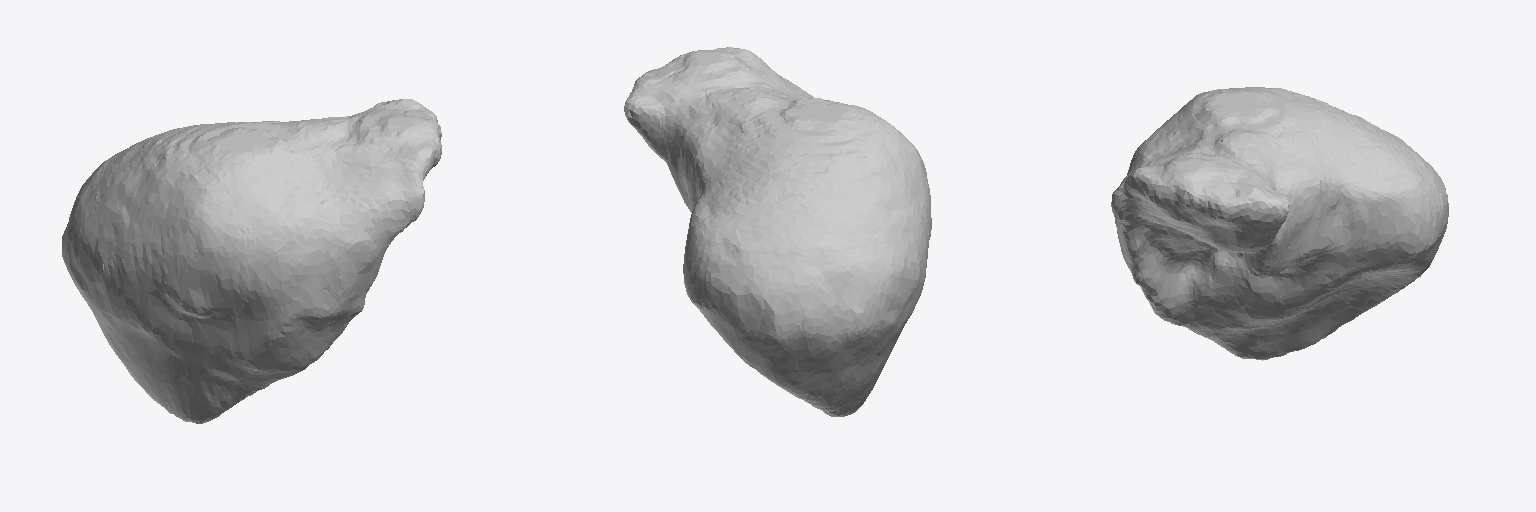
Rendered from Parenchyma.obj.
The picture shows the model from 3 angles: view 1: azimuth 30°, elevation 25°; view 2: azimuth 150°, elevation 25°; view 3: azimuth 270°, elevation 25°; orthographic projection.
Visible parts, largest first — view 1: Parenchyma_Liver; view 2: Parenchyma_Liver; view 3: Parenchyma_Liver.
Boxes of the visible parts, <box> form: Parenchyma_Liver: <box>62,99,441,423</box>; Parenchyma_Liver: <box>624,47,931,416</box>; Parenchyma_Liver: <box>1111,87,1448,360</box>.
Size of the model in its own units: 198 by 175 by 189.